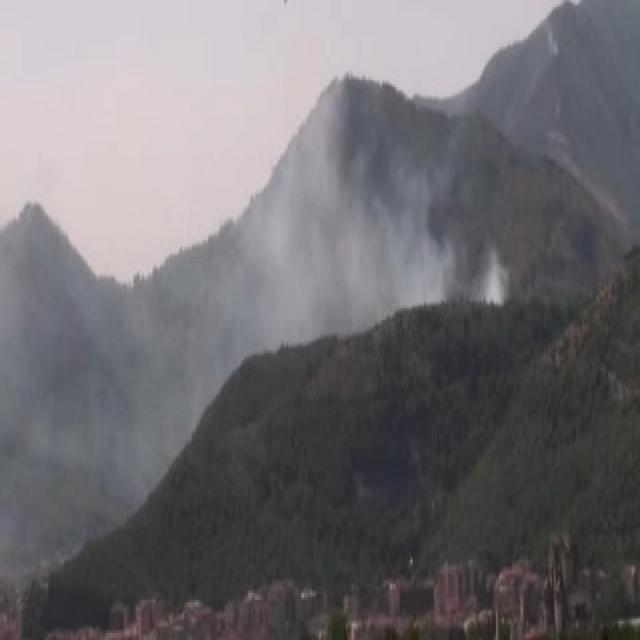smoke: (245, 120, 514, 319), (29, 316, 152, 501)
